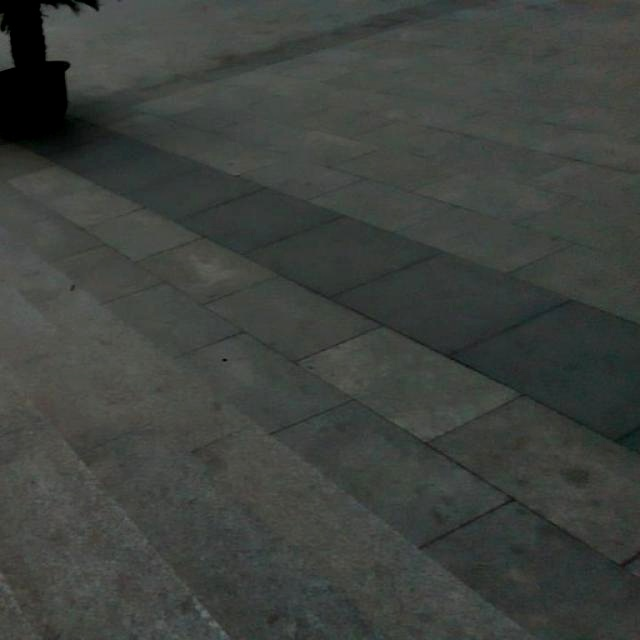stair: (0, 302, 496, 628)
